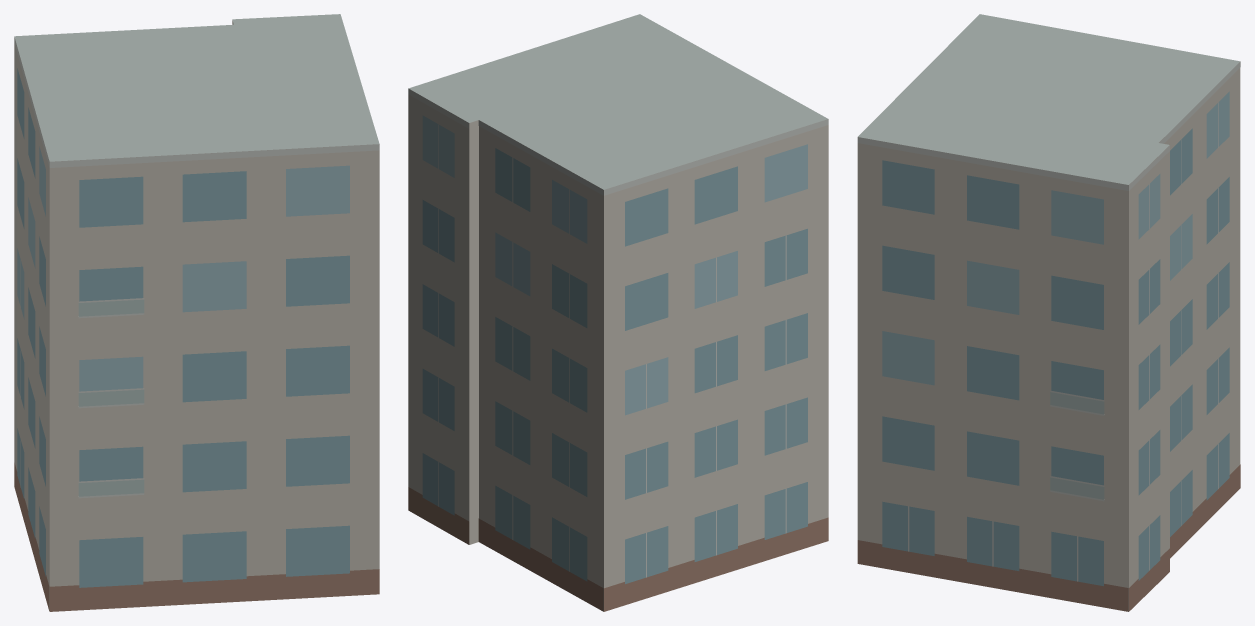
Rendered from survey-upis-32988376.glb.
3 views of the same model, side by side, from view 1: azimuth 30°, elevation 25°; view 2: azimuth 150°, elevation 25°; view 3: azimuth 270°, elevation 25° (orthographic). The views are drawn at different scales.
Visible parts, largest first — view 1: survey-upis-32988376.tmp; view 2: survey-upis-32988376.tmp; view 3: survey-upis-32988376.tmp.
Part boxes in pixels (bbox=[...]): survey-upis-32988376.tmp: bbox=[14, 14, 379, 611]; survey-upis-32988376.tmp: bbox=[408, 14, 828, 611]; survey-upis-32988376.tmp: bbox=[857, 14, 1240, 611].
Bounding box in the file's own units: 14.88 × 17.3 × 14.07.
